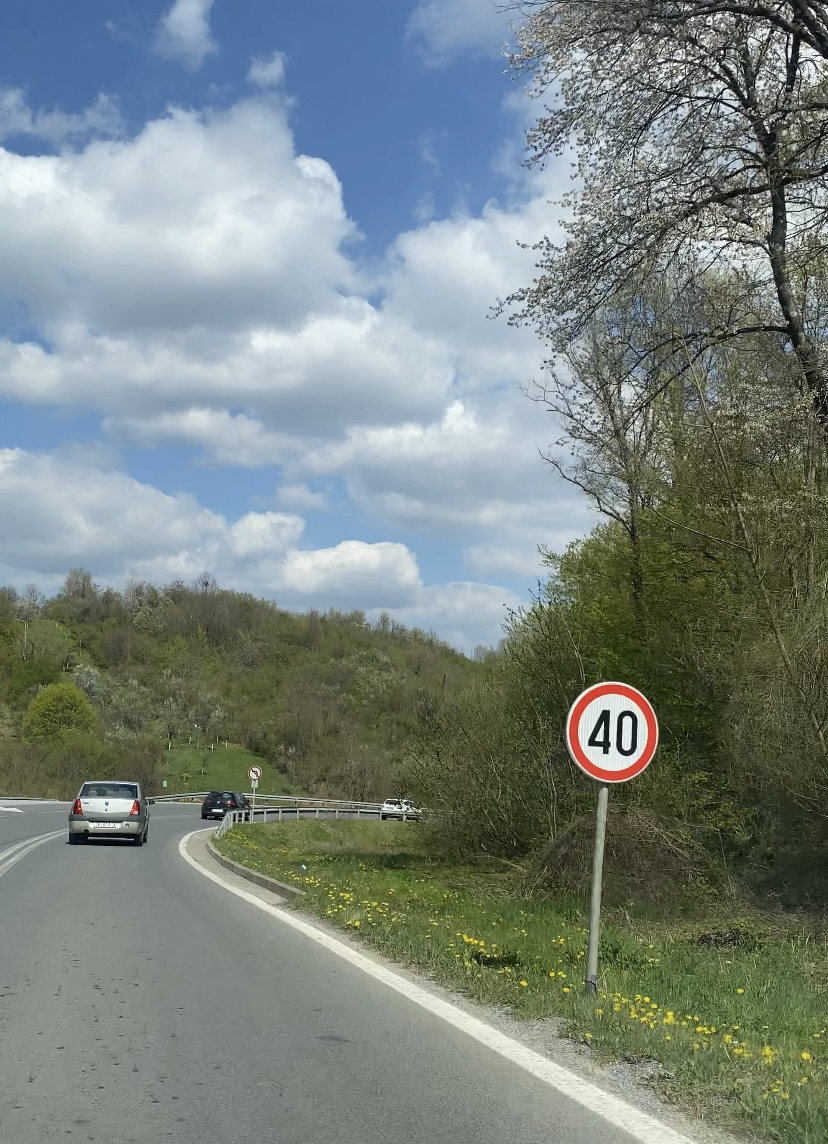Ograničenje brzine 40: (565, 682, 659, 783)
